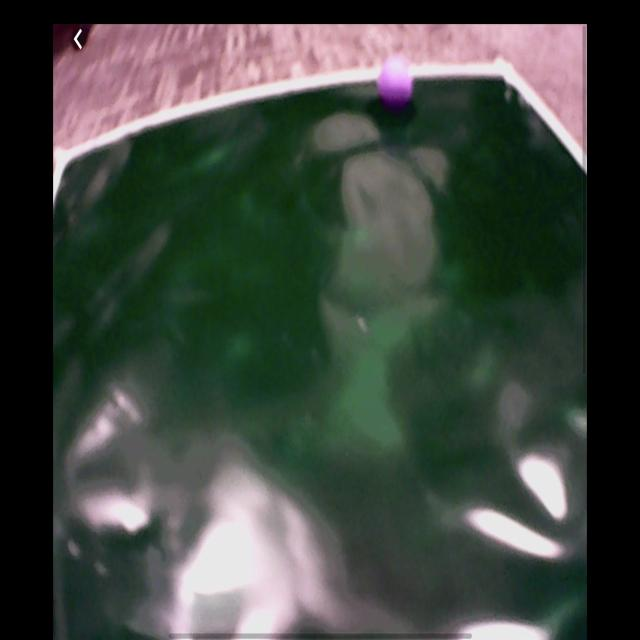ball: (376, 56, 416, 111)
